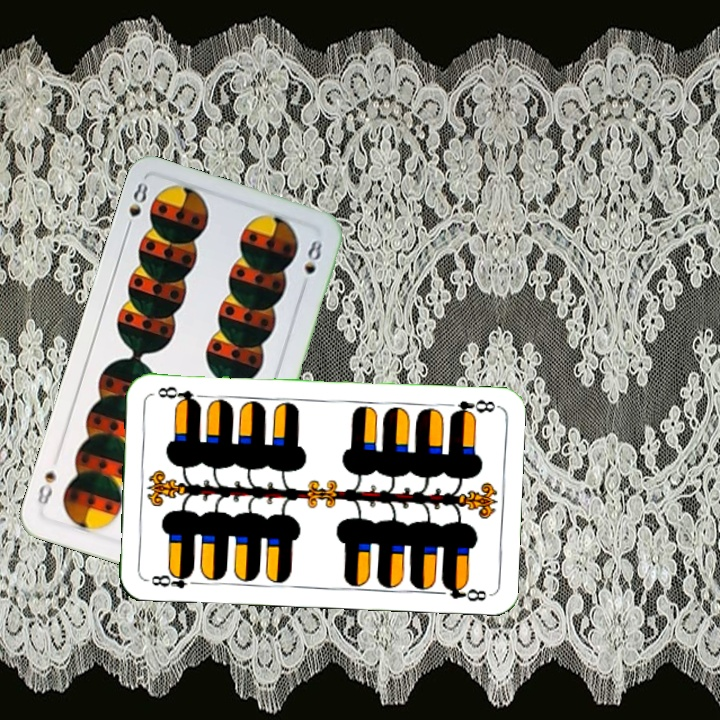E8: (148, 566, 202, 591), (446, 395, 499, 420)
S8: (121, 178, 151, 235)
